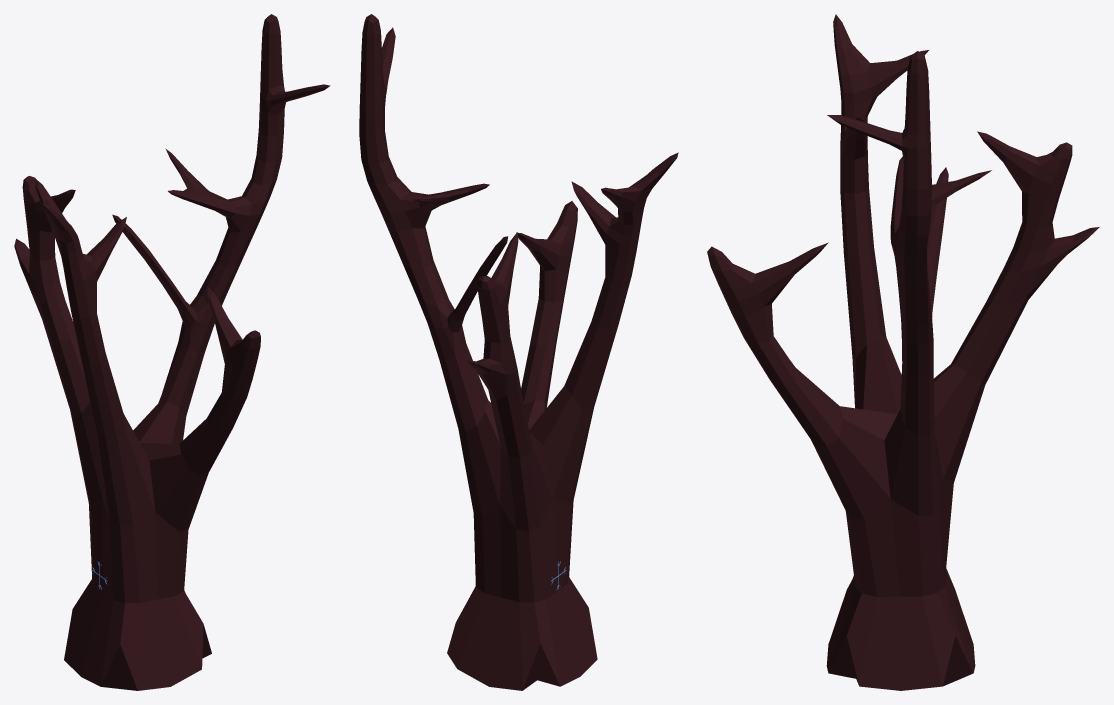
File: tree_004.fbx
3 renders of one model, left to right at view 1: azimuth 30°, elevation 25°; view 2: azimuth 150°, elevation 25°; view 3: azimuth 270°, elevation 25°, orthographic. The views are drawn at different scales.
Visible parts, largest first — view 1: tree004; view 2: tree004; view 3: tree004.
Boxes of the visible parts, x1,y1,x2,y2 form: tree004: (14, 14, 330, 690); tree004: (359, 14, 678, 690); tree004: (707, 14, 1099, 690).
Size of the model in its own units: 394 by 803 by 410.
